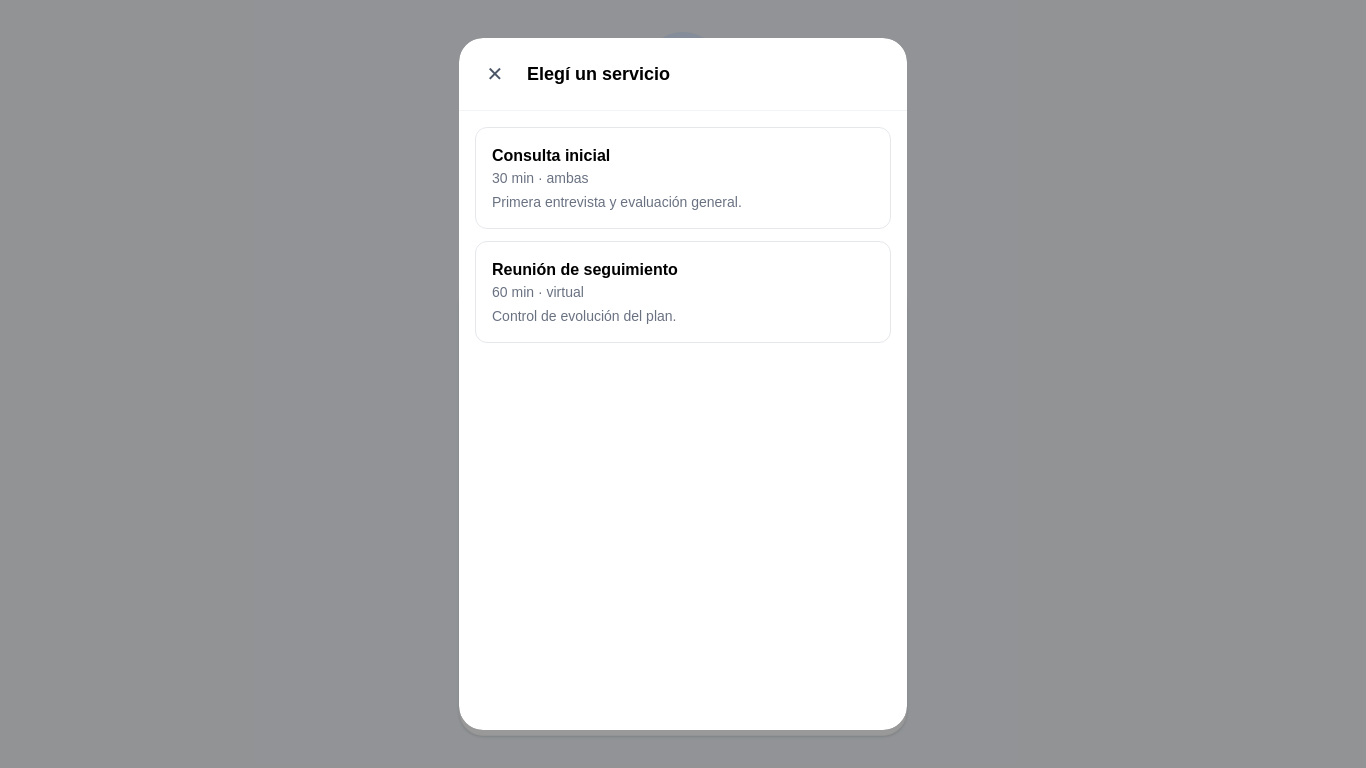
it: AgendaYA - M04 Booking Público › muestra un error cuando se intenta confirmar una reserva sin datos personales
Step 1. Click the button with test id "service-option" that starts with "Consulta inicial" → click(551, 156), box [475,127,891,229]
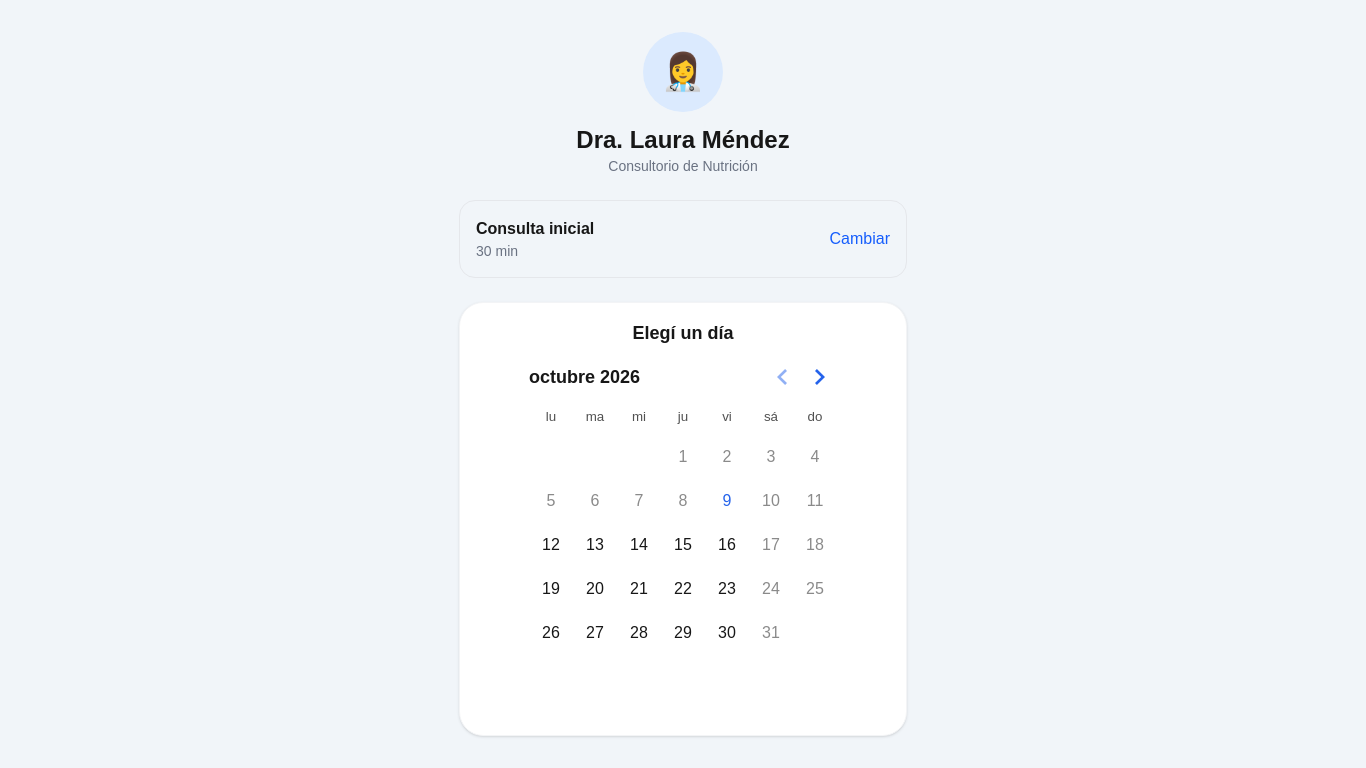
Step 2. Click the button "12" → click(551, 545), box [529,523,573,567]
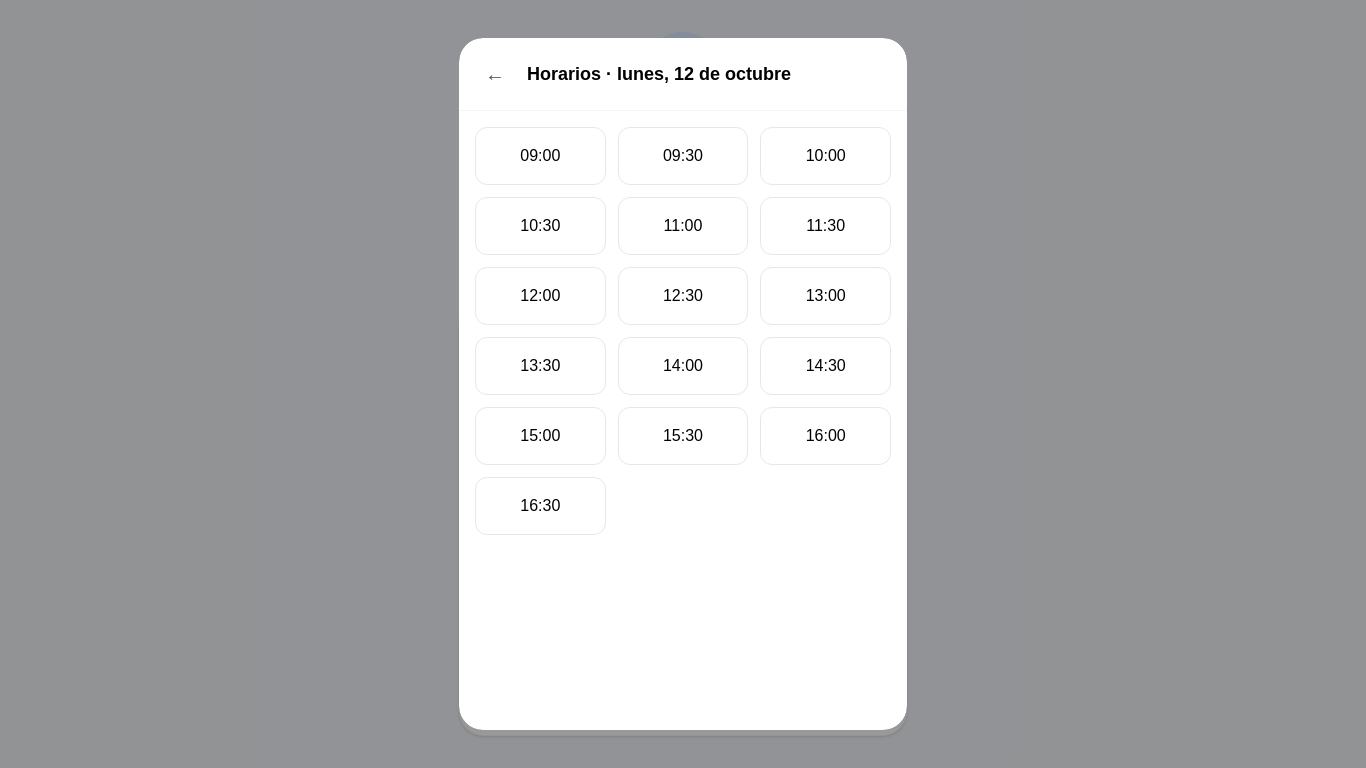
Step 3. Click the button "09:00" → click(541, 156), box [475,127,606,185]
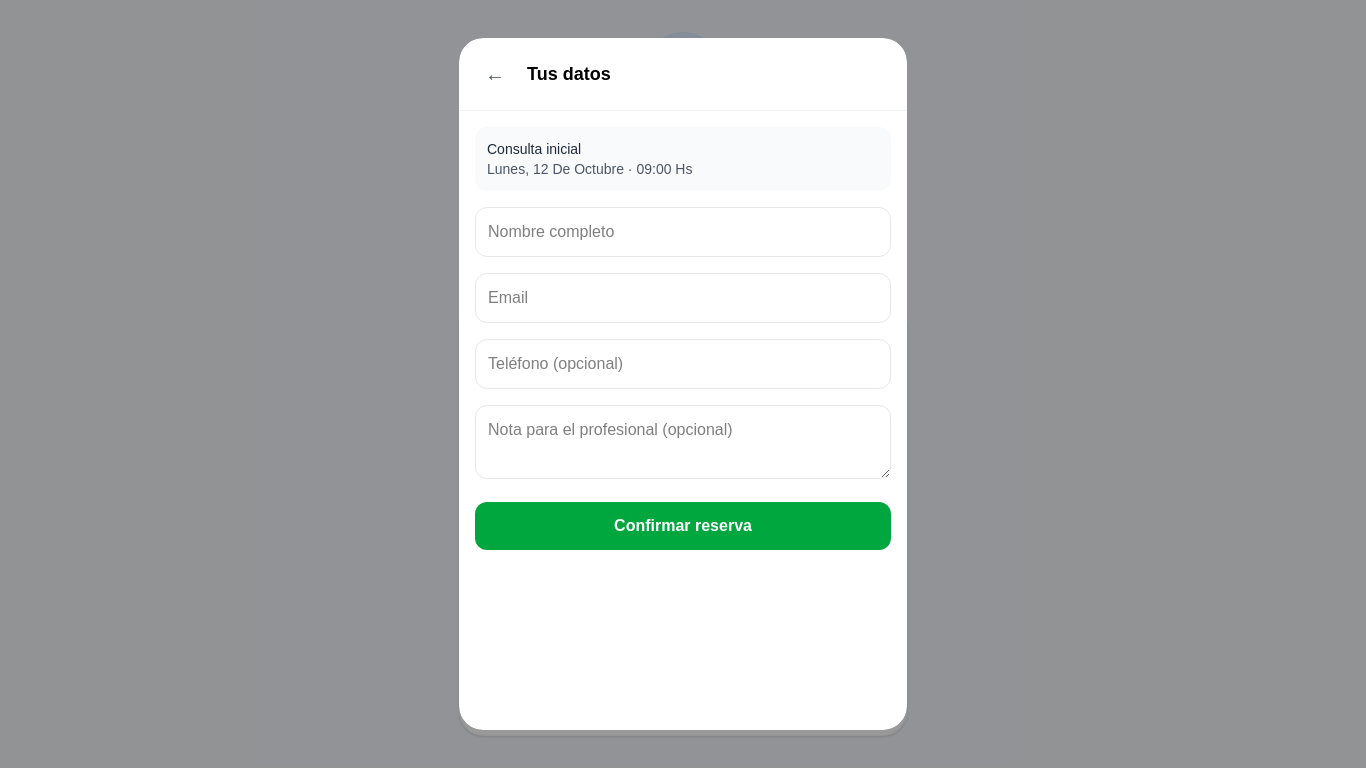
Acción: se intenta confirmar el formulario sin nombre ni correo electrónico.
Step 4. Click the button with test id "submit-booking" → click(683, 526), box [475,502,891,550]
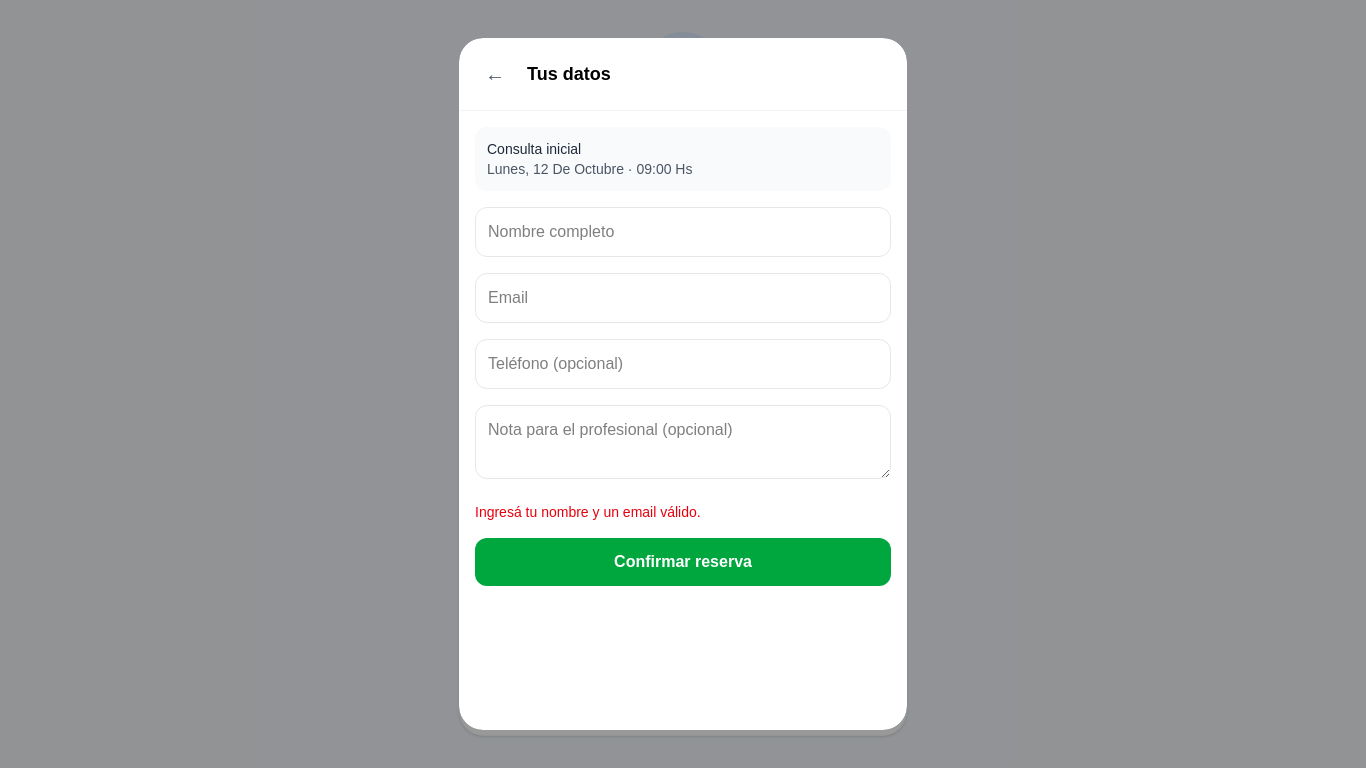
Result: the text with test id "error-formulario-reserva" reads "Ingresá tu nombre y un email válido." at [475,504,701,520]
